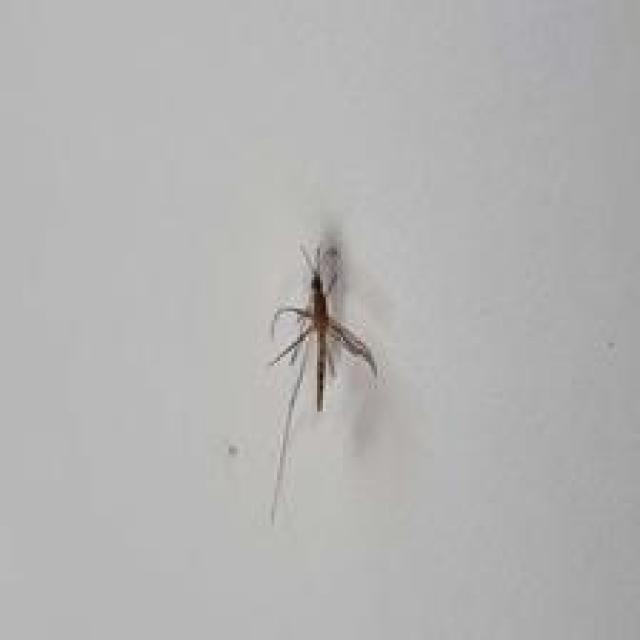Culex: (264, 239, 379, 524)
